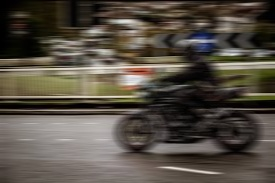Vehicle: (116, 66, 258, 153)
